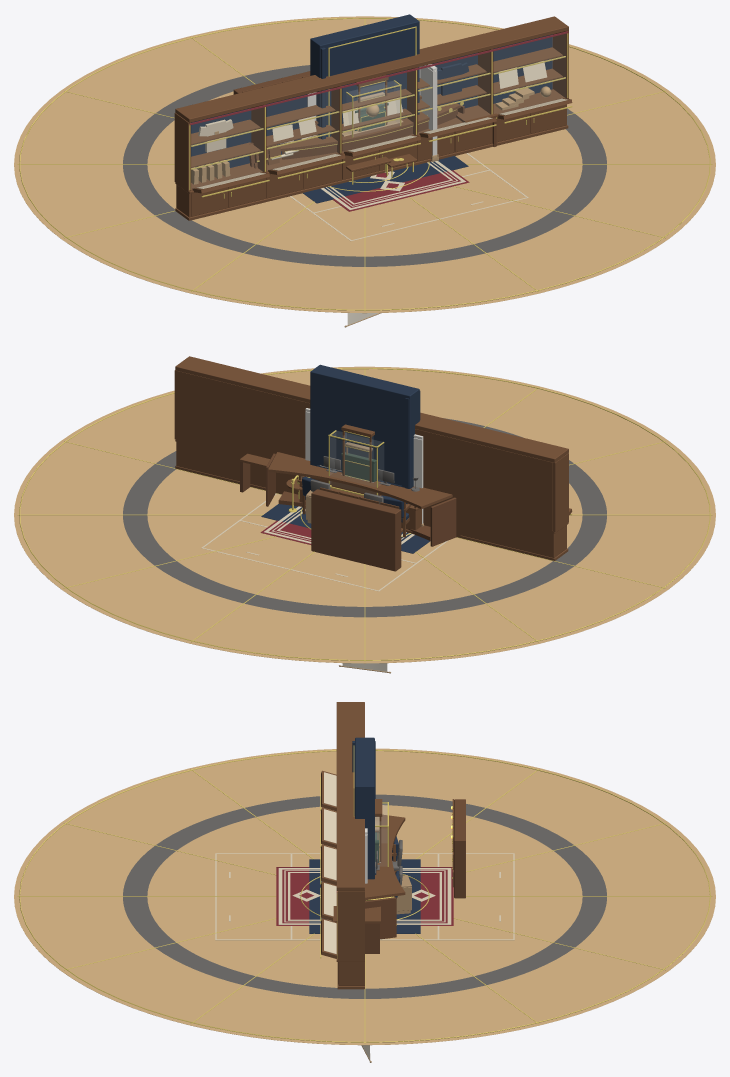
File: kit.4c94b920.glb
3 views of the same model, one above another, from view 1: azimuth 30°, elevation 25°; view 2: azimuth 150°, elevation 25°; view 3: azimuth 270°, elevation 25° (orthographic).
Parts seen in each view (by area): view 1: atrium-floor-inlay, history-case-run, atrium-floor-inlay__dark, atrium-floor-inlay__brass, history-case-run__lining, history-case-run__paper, holyoke-entry-screen__art, history-case-run__trim, holyoke-entry-screen, atrium-reception-desk__timber, atrium-lounge-set__upholstery, office-rug (+7 smaller); view 2: atrium-floor-inlay, history-case-run, atrium-floor-inlay__dark, holyoke-entry-screen, atrium-reception-desk__storage, atrium-floor-inlay__brass, atrium-reception-desk__timber, atrium-reception-desk, atrium-lounge-set__upholstery, partition, atrium-reception-desk__props, office-safe (+4 smaller); view 3: atrium-floor-inlay, atrium-floor-inlay__dark, history-case-run, atrium-floor-inlay__brass, office-rug, holyoke-entry-screen, atrium-reception-desk__timber, office-rug__border, history-case-run__paper, atrium-lounge-set__upholstery, atrium-reception-desk, gym-court-lines (+1 smaller).
Part boxes in pixels (x1=…): atrium-floor-inlay: x1=14, y1=16, x2=715, y2=313; history-case-run: x1=174, y1=16, x2=572, y2=220; atrium-floor-inlay__dark: x1=123, y1=65, x2=606, y2=266; atrium-floor-inlay__brass: x1=17, y1=17, x2=712, y2=311; history-case-run__lining: x1=191, y1=34, x2=552, y2=168; history-case-run__paper: x1=196, y1=61, x2=567, y2=188; holyoke-entry-screen__art: x1=329, y1=28, x2=415, y2=136; history-case-run__trim: x1=189, y1=33, x2=572, y2=198; holyoke-entry-screen: x1=310, y1=14, x2=419, y2=139; atrium-reception-desk__timber: x1=242, y1=75, x2=498, y2=168; atrium-lounge-set__upholstery: x1=303, y1=156, x2=468, y2=203; office-rug: x1=332, y1=170, x2=469, y2=211; atrium-floor-inlay: x1=14, y1=366, x2=715, y2=663; history-case-run: x1=174, y1=356, x2=572, y2=560; atrium-floor-inlay__dark: x1=123, y1=418, x2=606, y2=617; holyoke-entry-screen: x1=310, y1=364, x2=420, y2=503; atrium-reception-desk__storage: x1=311, y1=489, x2=401, y2=571; atrium-floor-inlay__brass: x1=17, y1=368, x2=712, y2=661; atrium-reception-desk__timber: x1=239, y1=452, x2=452, y2=509; atrium-reception-desk: x1=240, y1=453, x2=456, y2=546; atrium-lounge-set__upholstery: x1=261, y1=476, x2=430, y2=553; partition: x1=305, y1=408, x2=423, y2=523; atrium-reception-desk__props: x1=310, y1=456, x2=419, y2=504; office-safe: x1=341, y1=452, x2=376, y2=481; atrium-floor-inlay: x1=14, y1=748, x2=715, y2=1045; atrium-floor-inlay__dark: x1=123, y1=794, x2=606, y2=998; history-case-run: x1=321, y1=702, x2=364, y2=989; atrium-floor-inlay__brass: x1=17, y1=750, x2=712, y2=1043; office-rug: x1=276, y1=867, x2=453, y2=925; holyoke-entry-screen: x1=352, y1=737, x2=375, y2=879; atrium-reception-desk__timber: x1=333, y1=799, x2=453, y2=923; office-rug__border: x1=278, y1=868, x2=451, y2=924; history-case-run__paper: x1=324, y1=772, x2=336, y2=954; atrium-lounge-set__upholstery: x1=309, y1=836, x2=420, y2=933; atrium-reception-desk: x1=365, y1=897, x2=396, y2=953; gym-court-lines: x1=215, y1=853, x2=514, y2=940.
Size of the model in its own units: 16.4 by 7.48 by 16.4.
